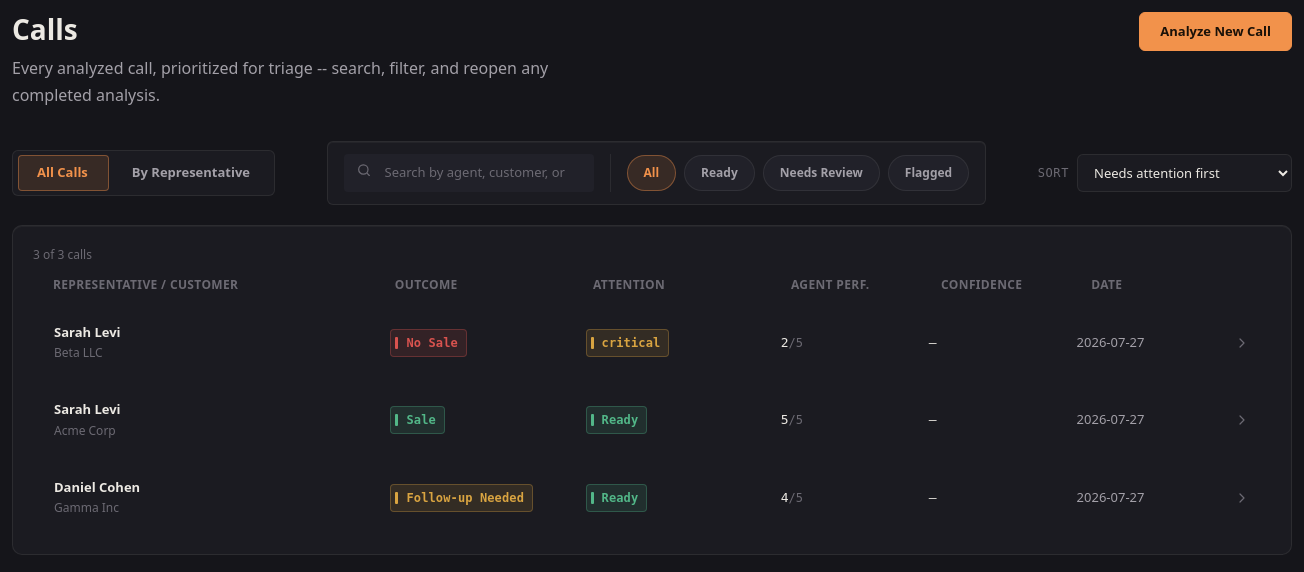
Test: Calls filtering and search › filters by status
Expected: the text "Acme Corp" is shown, [54, 422, 116, 439]
Click the button "Needs Review" at (821, 173), box [763, 155, 880, 191]
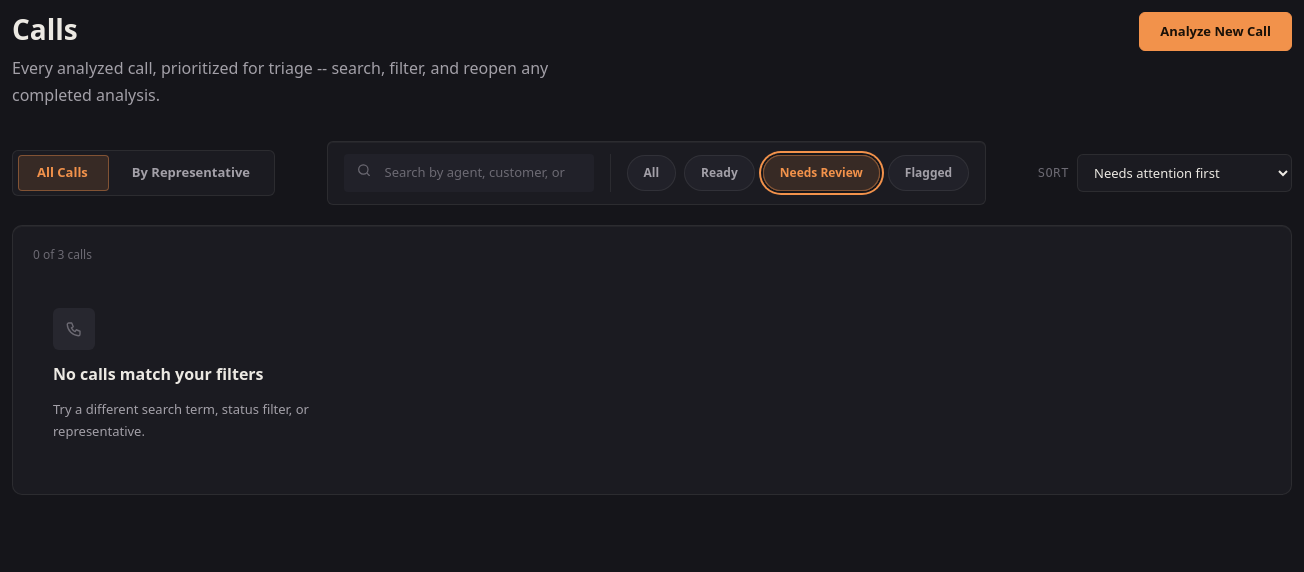
Expected: the text "0 of 3 calls" is shown, [33, 246, 92, 263]
